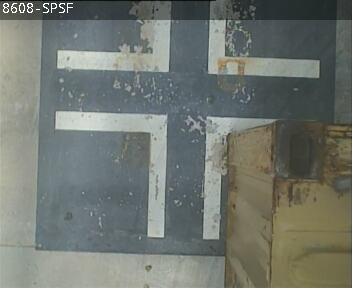groundmarker_1: (55, 109, 282, 239), (56, 1, 319, 79)
